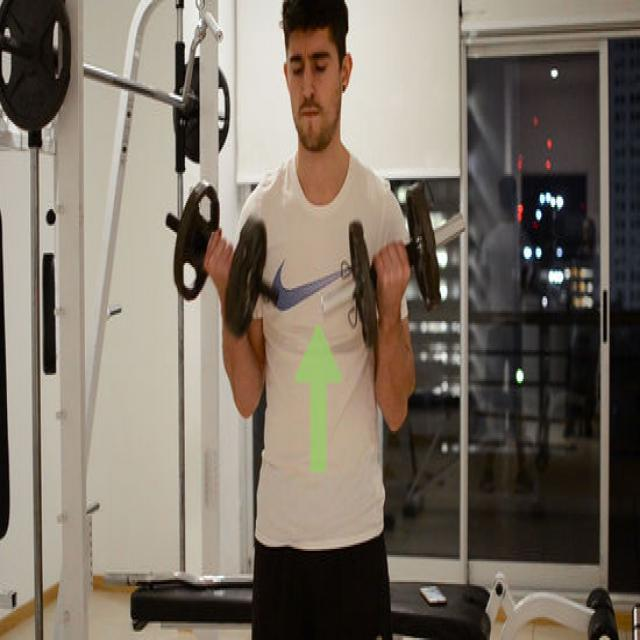Gym Weights: (316, 176, 472, 365), (161, 170, 285, 340)
